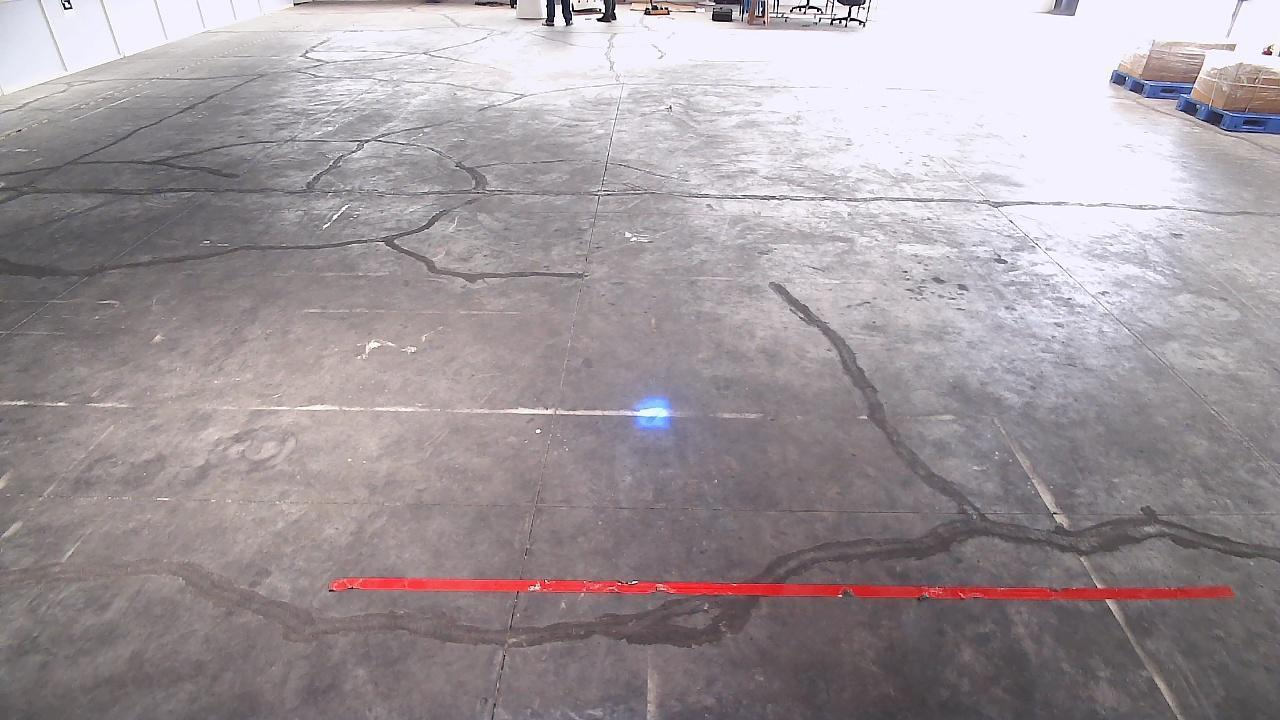red_line: (324, 574, 1243, 598)
